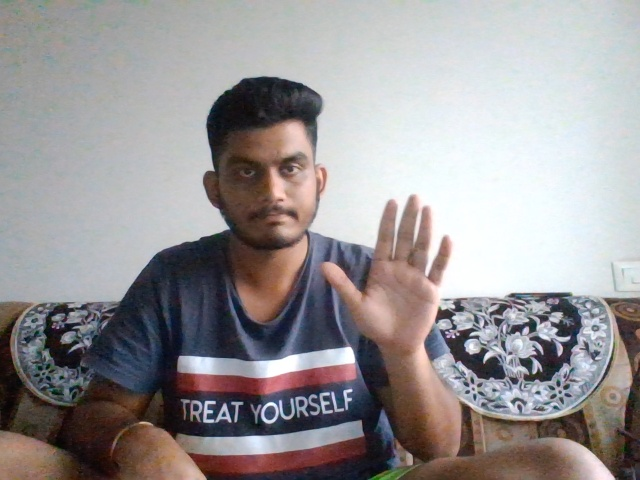Hello: (323, 182, 464, 353)
